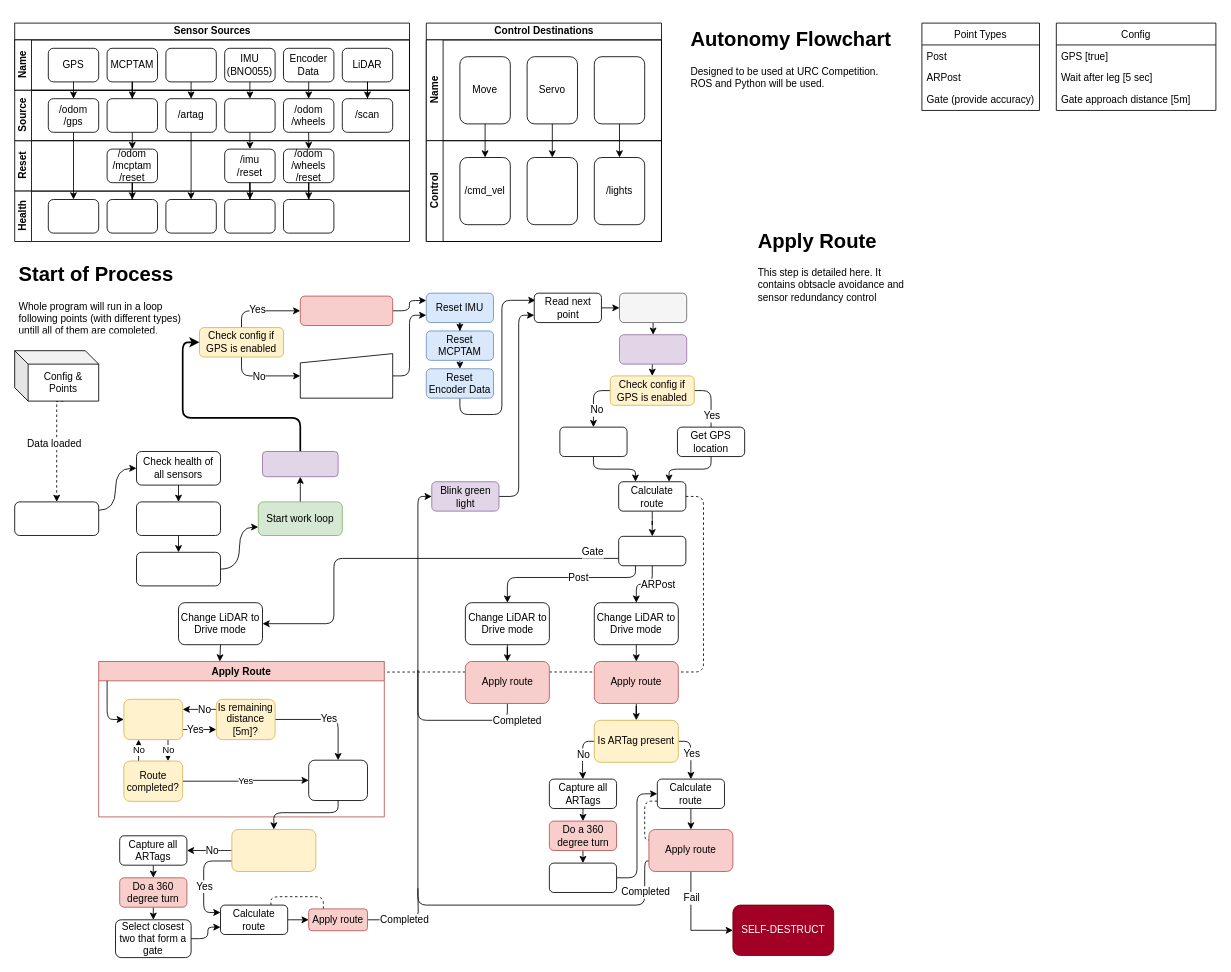
This 1231x972 diagram has some shape labels left out. The shapes that lost their labels are listed below. From the top down, each one's centre as x and y in pixels, then its label:
At point 190,64: "ARTag".
At point 619,90: "Indicator Lights".
At point 132,115: "/odom /mcptam".
At point 249,115: "/imu".
At point 552,191: "Through dynamixel".
At point 73,216: "/odom /gps /status".
At point 132,216: "/odom /mcptam /status".
At point 190,216: "/artag /status".
At point 249,216: "/imu /status".
At point 308,216: "/odom /wheels /status".
At point 346,310: "Rotate rover to 0 degrees".
At point 653,307: "Wait [5 sec]".
At point 653,349: "Red light on".
At point 346,375: "Wait for rover to be rotated to y-axis".
At point 593,441: "Get MCPTAM location".
At point 300,464: "Flash all lights".
At point 56,518: "Start".
At point 178,518: "Check dynamixel".
At point 178,568: "Apply config & Check points".
At point 652,551: "Read point type".
At point 153,719: "Are coordinates accurate?".
At point 338,780: "Handover to ARTag aligning".
At point 273,850: "Is 2 ARTag present".
At point 583,877: "Select closest".
